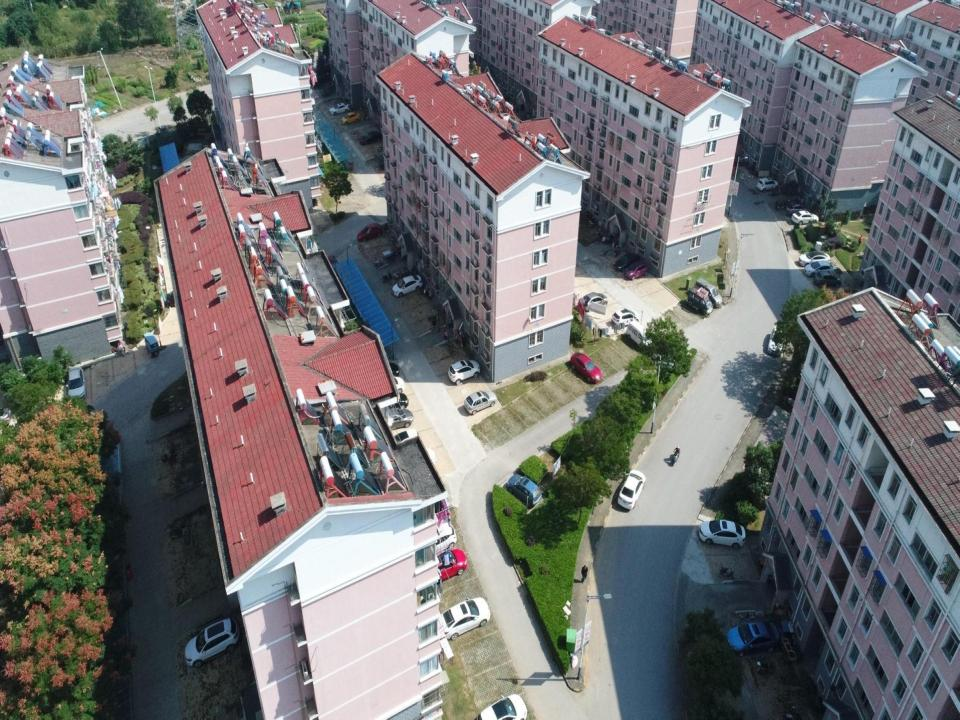car: (185, 614, 240, 668), (435, 597, 490, 639), (726, 622, 780, 657), (698, 519, 746, 548), (616, 468, 647, 510), (506, 473, 541, 509), (478, 695, 528, 719), (432, 548, 467, 580), (568, 353, 602, 383), (626, 319, 654, 349), (429, 522, 457, 552), (464, 390, 497, 415), (392, 274, 424, 298), (448, 360, 480, 384), (66, 367, 86, 401), (767, 322, 785, 359), (381, 409, 414, 427), (611, 308, 640, 328), (580, 292, 608, 312), (356, 222, 382, 242), (622, 260, 648, 280), (614, 253, 640, 272), (814, 270, 841, 288), (805, 260, 833, 276), (800, 252, 830, 266), (757, 176, 780, 192), (791, 211, 818, 224), (389, 393, 408, 410), (359, 131, 382, 144), (339, 111, 360, 125), (330, 102, 349, 116), (787, 201, 807, 214), (391, 377, 405, 392), (389, 362, 399, 375)
van: (691, 277, 722, 307), (687, 287, 714, 316)
